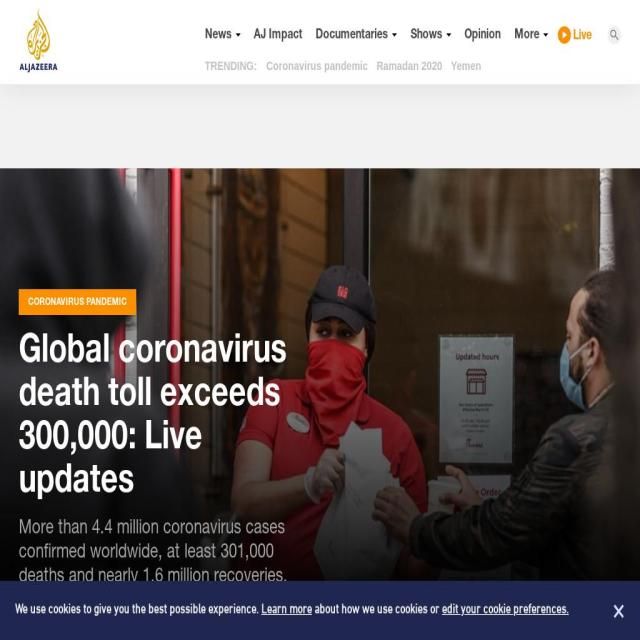button: (19, 289, 136, 315), (316, 28, 404, 61), (19, 0, 68, 38), (254, 28, 310, 61), (556, 22, 600, 60), (410, 28, 459, 61), (204, 28, 248, 61), (464, 28, 508, 61), (514, 28, 555, 61), (613, 602, 625, 620), (19, 639, 208, 640), (226, 639, 414, 640)
heading: (19, 334, 287, 504), (19, 639, 208, 640), (226, 639, 414, 640), (433, 639, 446, 640)
image: (20, 8, 58, 72), (558, 26, 572, 44)
link: (442, 599, 569, 622), (266, 58, 368, 72), (261, 599, 312, 622), (377, 58, 442, 72), (451, 58, 481, 72)
text: (19, 94, 621, 168), (18, 518, 310, 598), (15, 599, 261, 622), (312, 599, 442, 622), (316, 29, 391, 43), (204, 57, 257, 74), (410, 29, 445, 43), (204, 29, 234, 43), (514, 29, 542, 43), (573, 30, 592, 43)
